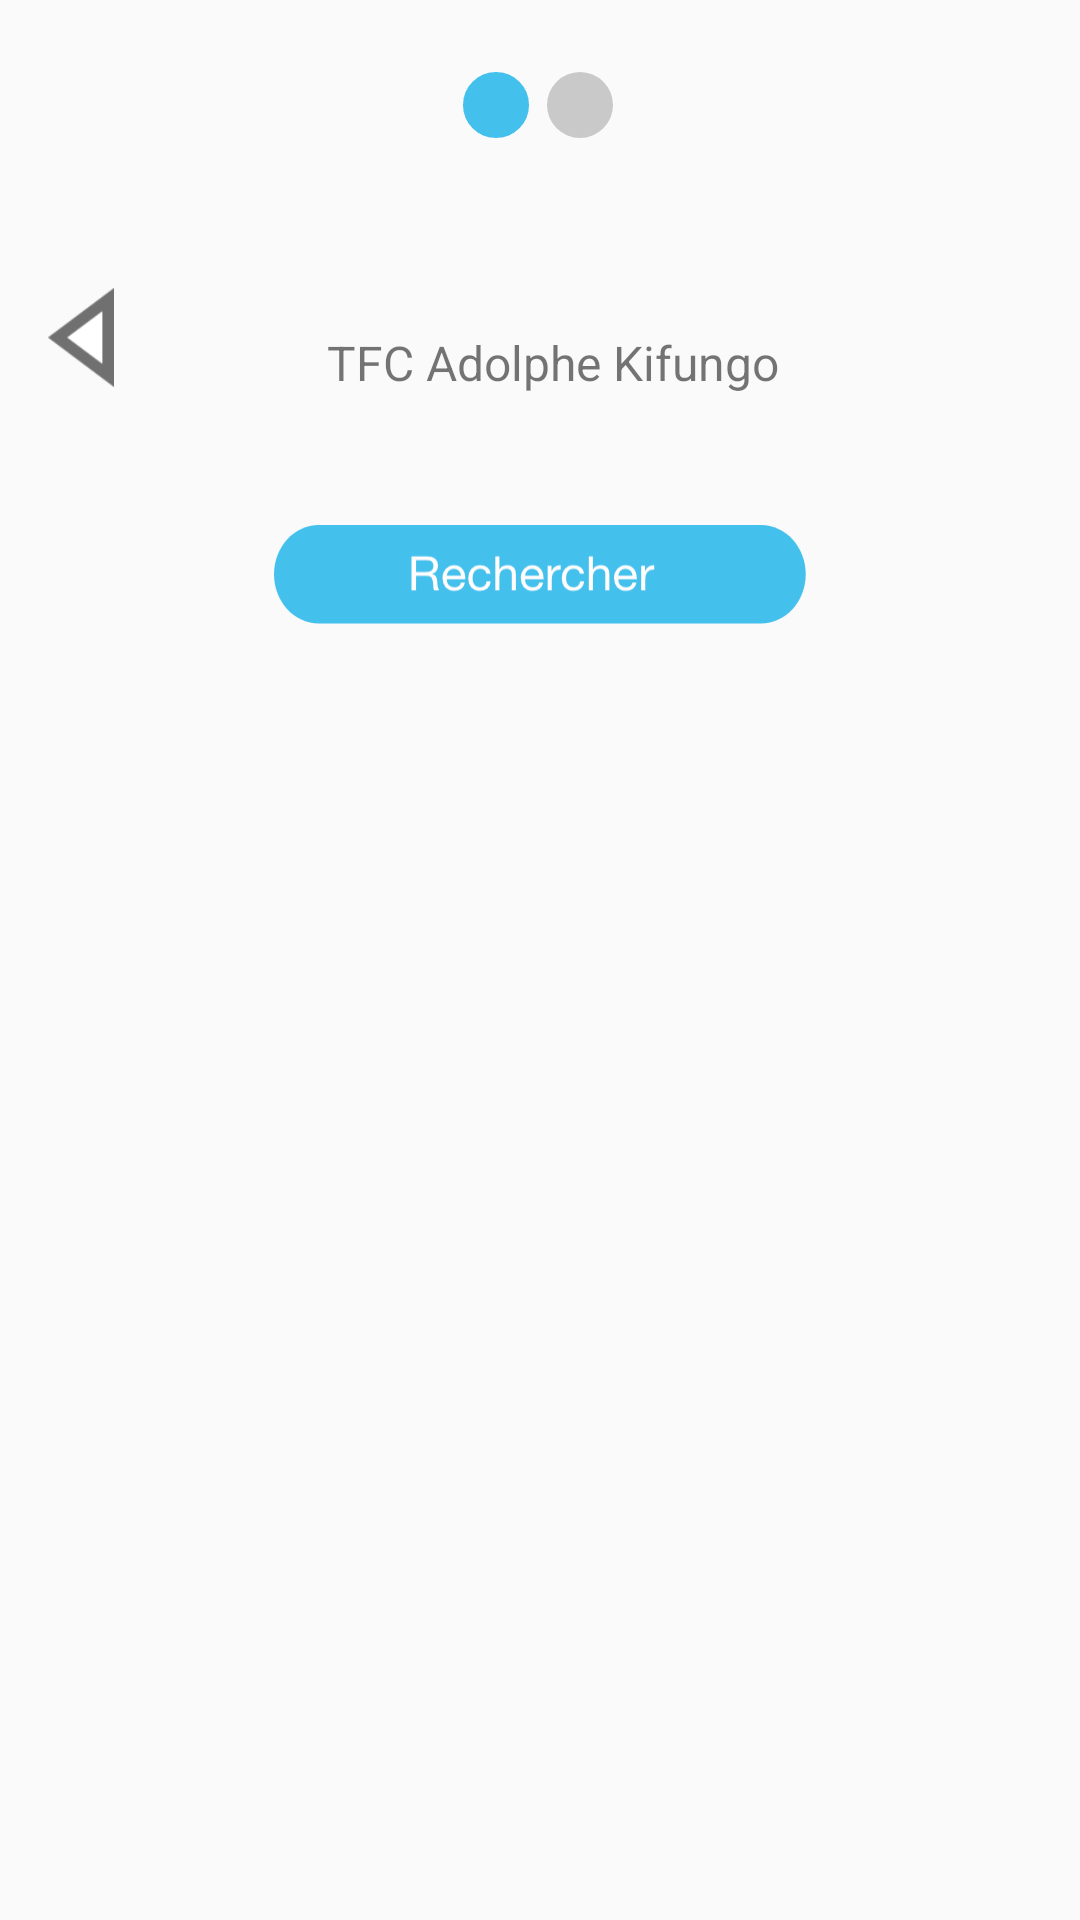

Where to tap for icons on this 1080*1920 app screen, as (x,y):
polygon: (81,337)
